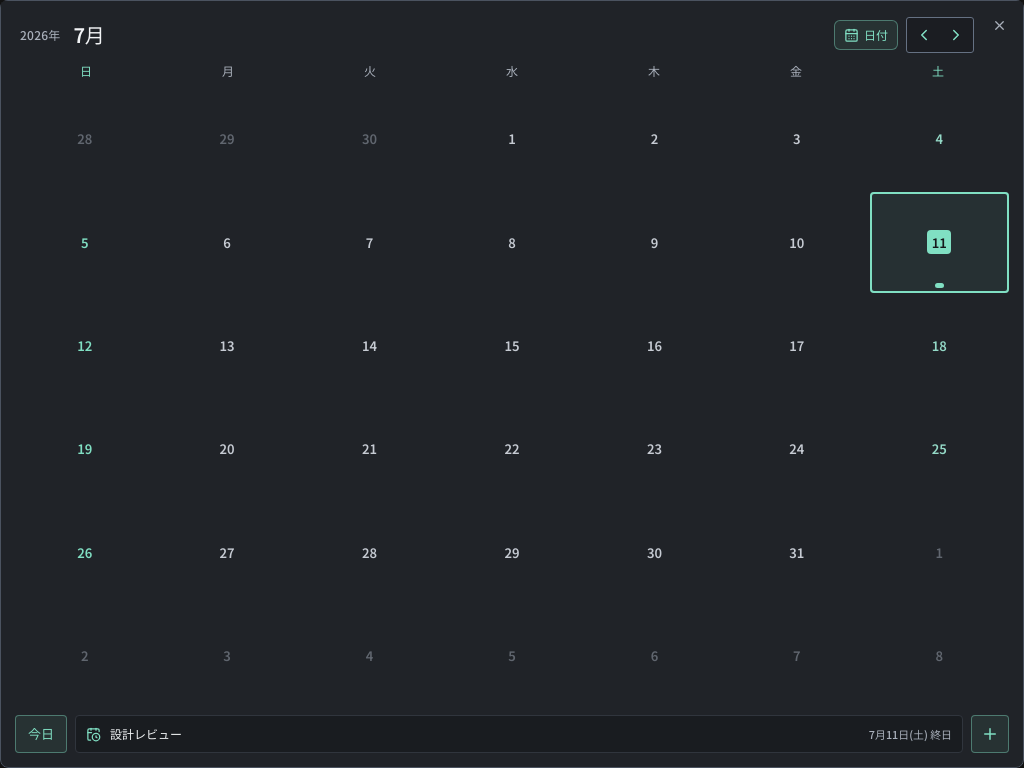
it: CalendarOverlay window coordination › updates open detail when an external save moves the event out of view
Click the button named "7月11日、予定1件" at (939, 242), box x1=870 y1=192 x2=1009 y2=293
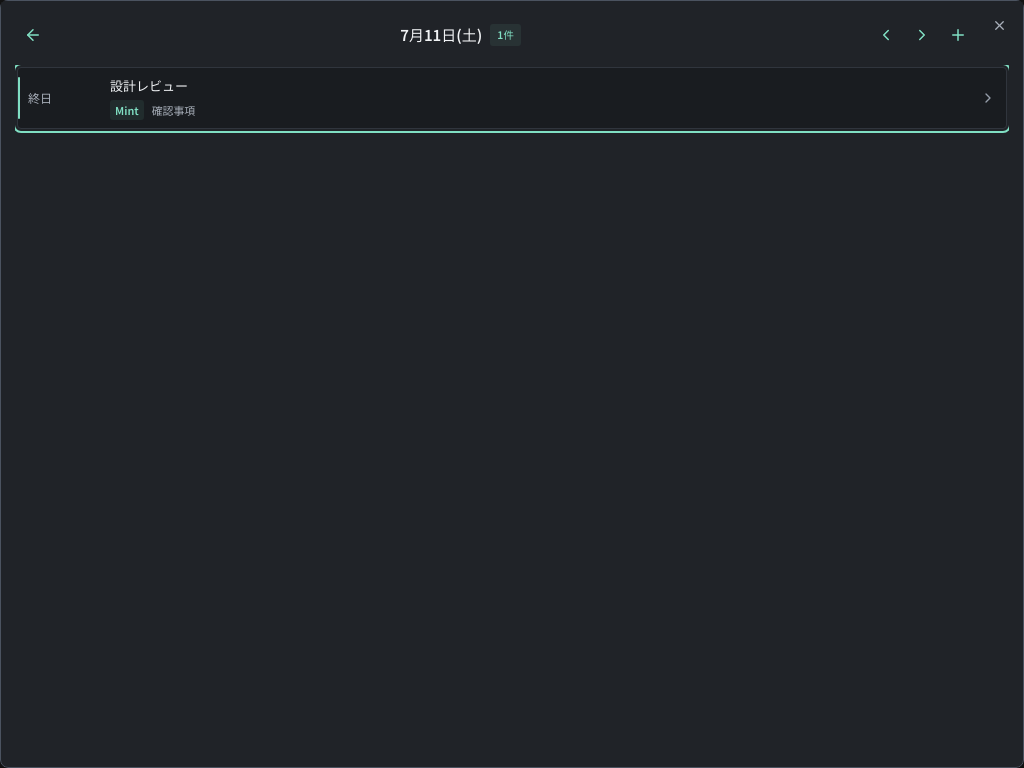
Click the button "終日 設計レビュー Mint 確認事項" at (149, 86), box x1=17 y1=67 x2=1007 y2=129
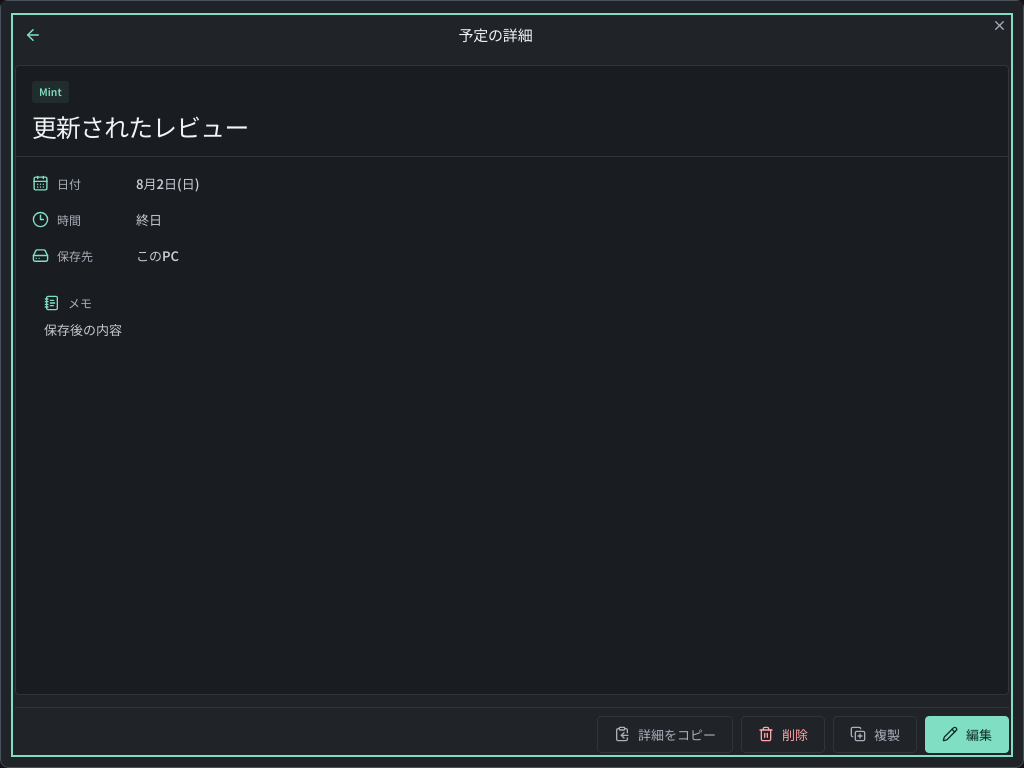
Expected: the heading "更新されたレビュー" is shown, x1=32 y1=108 x2=248 y2=144
Expected: the text "保存後の内容" is shown, x1=44 y1=320 x2=122 y2=339
Expected: the text "8月2日(日)" is shown, x1=136 y1=174 x2=200 y2=193
Click the button named "戻る" at (33, 35), box x1=17 y1=19 x2=49 y2=51
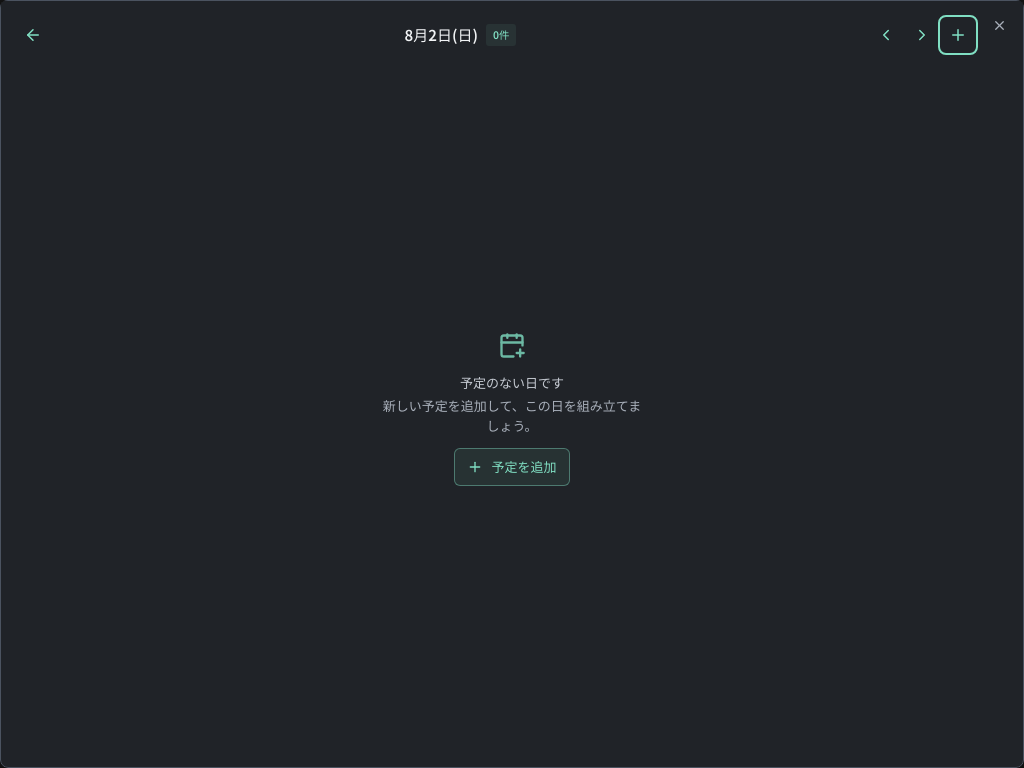
Expected: the heading "8月2日(日) 0件" is shown, x1=405 y1=24 x2=516 y2=46
